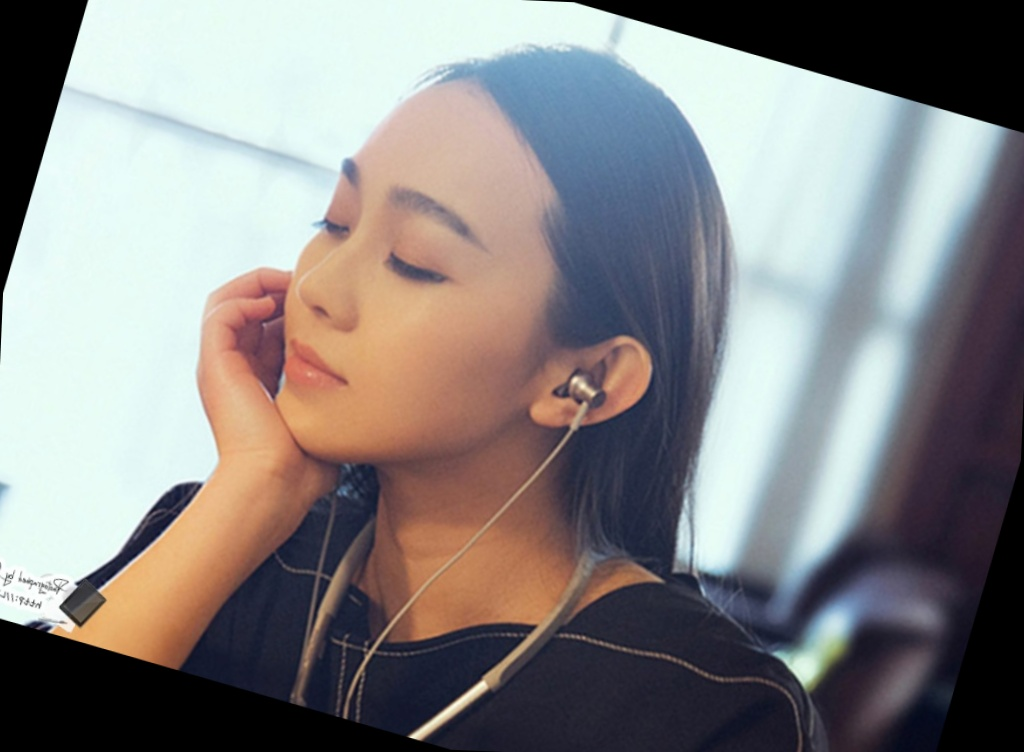earphone: (519, 313, 661, 453)
